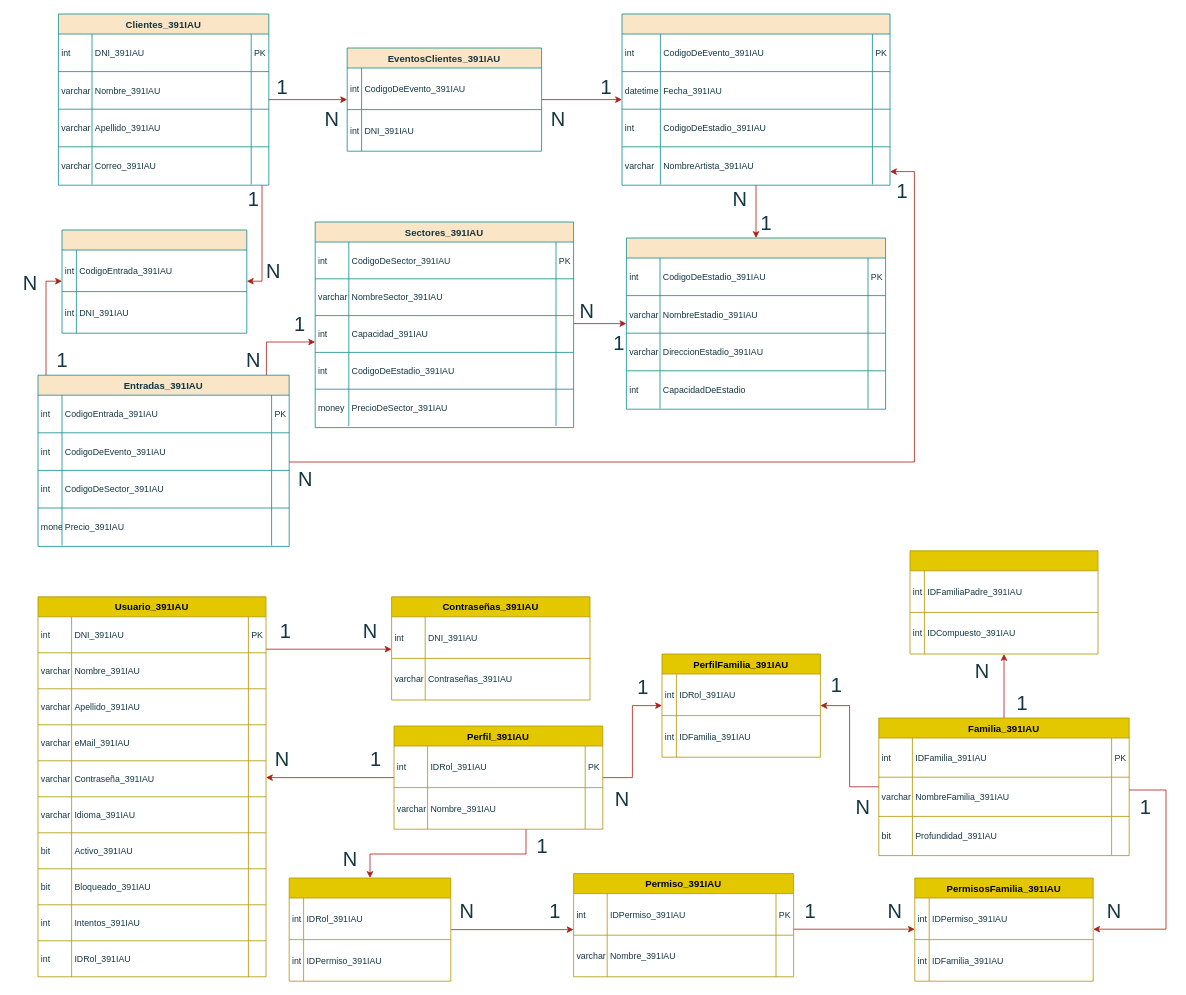
The diagram is 1186 pixels wide and 995 high, and some of its shapes have lost their labels. Each missing label, with the box of its shape:
ClientesEntradas_391IAU: (61, 229, 247, 333)
Estadios_391IAU: (626, 237, 886, 409)
Eventos_391IAU: (621, 13, 890, 185)
FamiliaFamilia_391IAU: (909, 550, 1098, 654)
PerfilPermiso_391IAU: (288, 877, 451, 981)
